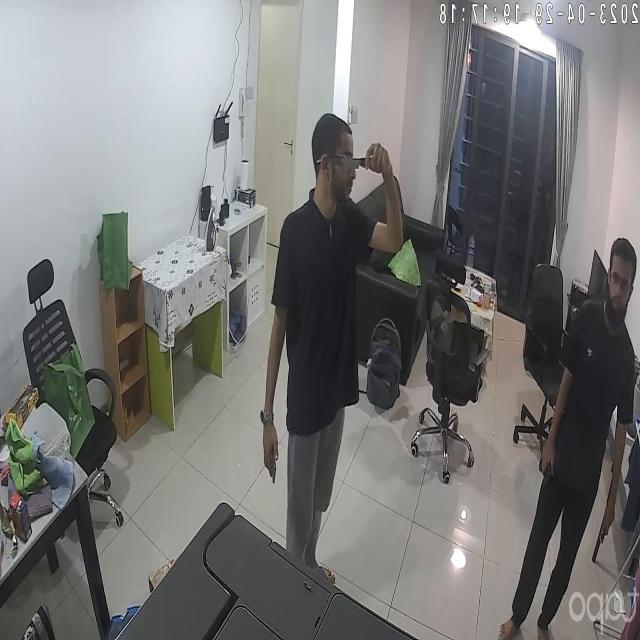Knife: (328, 149, 378, 179)
